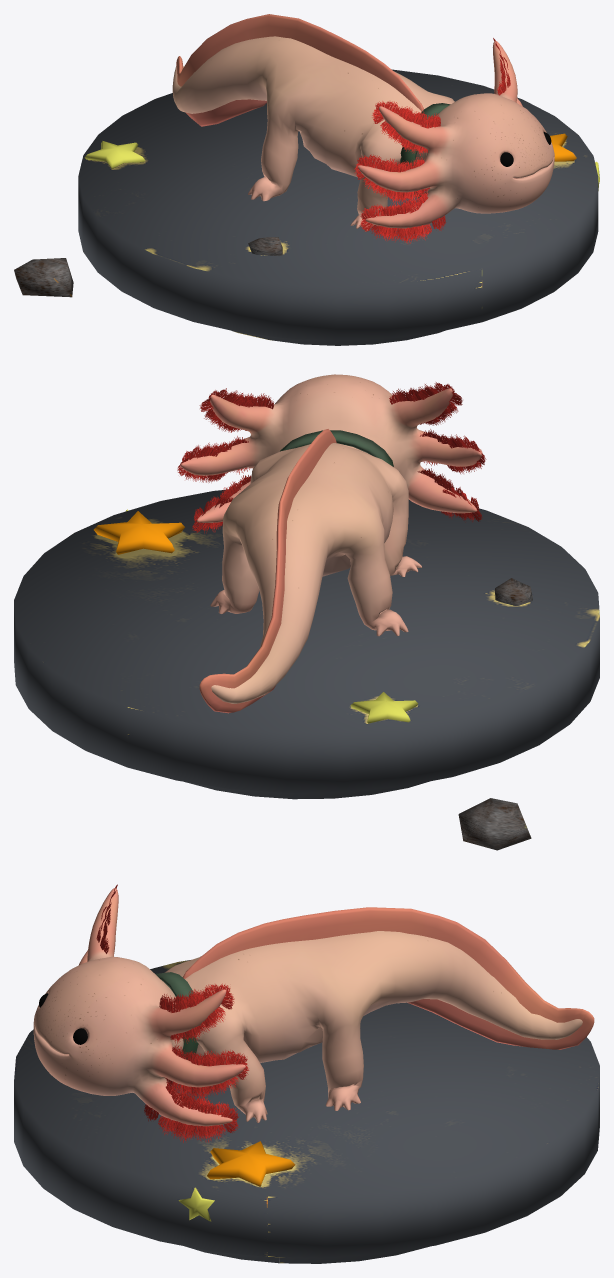
3 views of the same model, one above another, from view 1: azimuth 30°, elevation 25°; view 2: azimuth 150°, elevation 25°; view 3: azimuth 270°, elevation 25° (orthographic). The views are drawn at different scales.
Parts seen in each view (by area): view 1: Stand_70, Axy_3, Collar_69; view 2: Stand_70, Axy_3, Collar_69; view 3: Stand_70, Axy_3, Collar_69.
Part boxes in pixels (bbox=[...]): Stand_70: bbox=[14, 69, 599, 345]; Axy_3: bbox=[172, 14, 554, 243]; Collar_69: bbox=[400, 103, 450, 197]; Stand_70: bbox=[14, 489, 599, 850]; Axy_3: bbox=[177, 374, 486, 713]; Collar_69: bbox=[280, 430, 393, 466]; Stand_70: bbox=[14, 960, 599, 1263]; Axy_3: bbox=[33, 884, 594, 1142]; Collar_69: bbox=[155, 972, 198, 1085].
Size of the model in its own units: 9 by 4.41 by 8.37.
Materials: 5 (4 with a texture image).
